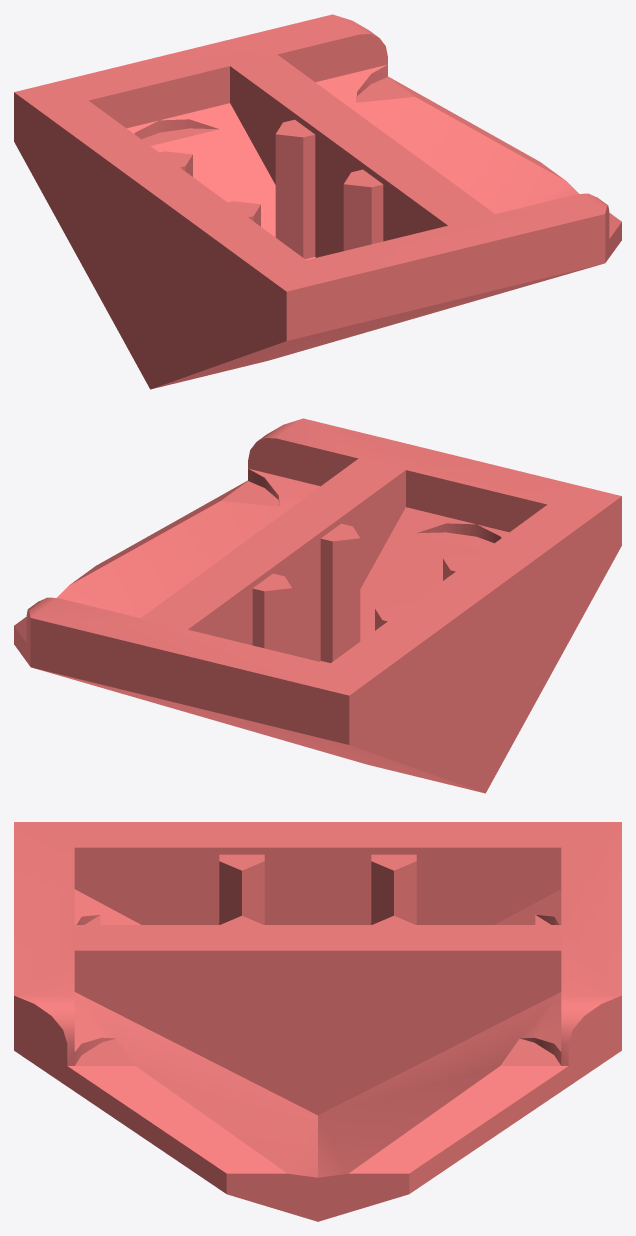
3 views of the same model, one above another, from view 1: azimuth 30°, elevation 25°; view 2: azimuth 150°, elevation 25°; view 3: azimuth 270°, elevation 25° (orthographic). The views are drawn at different scales.
Parts seen in each view (by area): view 1: LDrawPart; view 2: LDrawPart; view 3: LDrawPart.
Boxes of the visible parts, x1=… form: LDrawPart: x1=14, y1=14, x2=621, y2=389; LDrawPart: x1=14, y1=418, x2=621, y2=793; LDrawPart: x1=14, y1=822, x2=621, y2=1221.
Size of the model in its own units: 0.2555 by 0.112 by 0.28.
